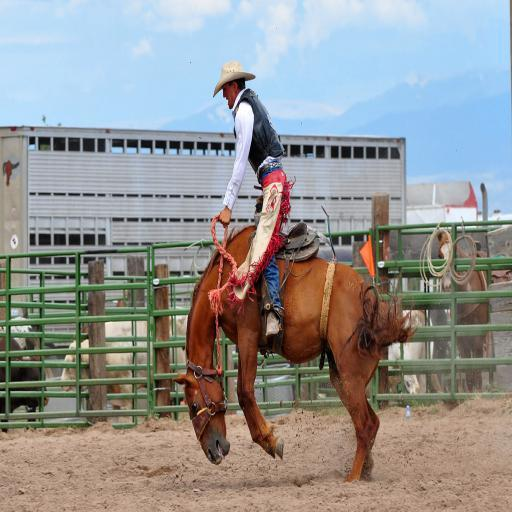horse: (171, 224, 422, 486), (437, 226, 490, 408)
